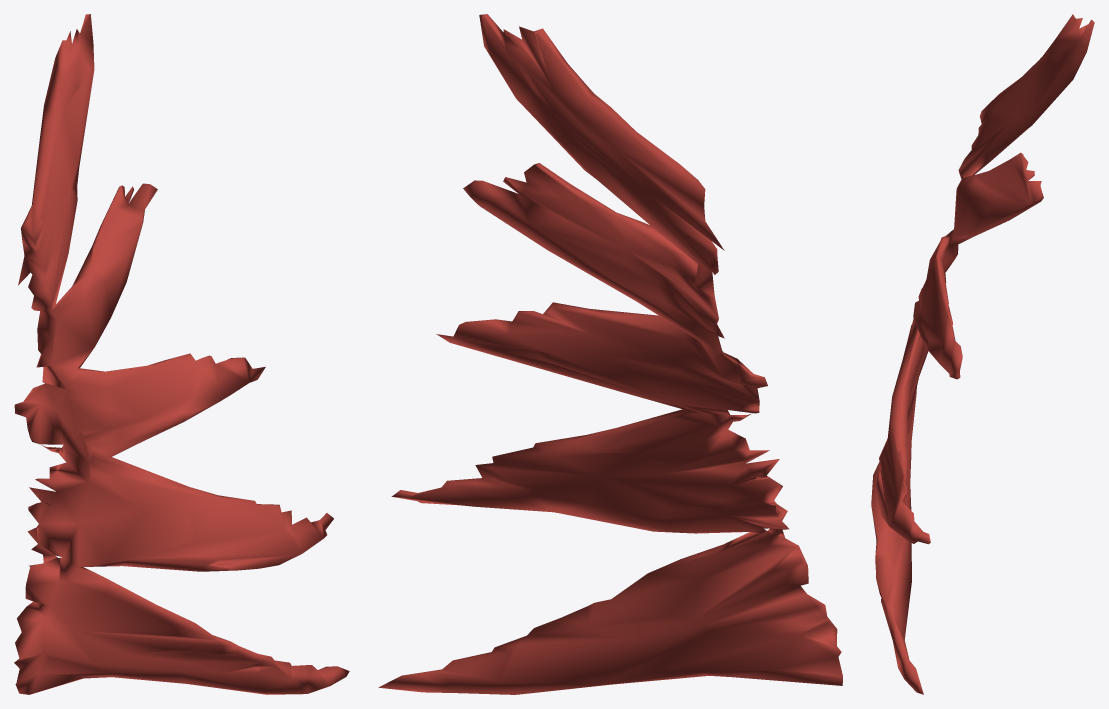
Rendered from musculos-transversus-thoracis-muscle-l.glb.
The picture shows the model from 3 angles, left to right: view 1: azimuth 30°, elevation 25°; view 2: azimuth 150°, elevation 25°; view 3: azimuth 270°, elevation 25°; orthographic projection. The views are drawn at different scales.
Visible parts, largest first — view 1: Transversus thoracis muscle.l; view 2: Transversus thoracis muscle.l; view 3: Transversus thoracis muscle.l.
Boxes of the visible parts, box(x1,y1,x2,y2) form: Transversus thoracis muscle.l: box(14, 14, 349, 694); Transversus thoracis muscle.l: box(378, 14, 842, 694); Transversus thoracis muscle.l: box(871, 14, 1094, 694).
Bounding box in the file's own units: 0.0855 × 0.149 × 0.0505.
